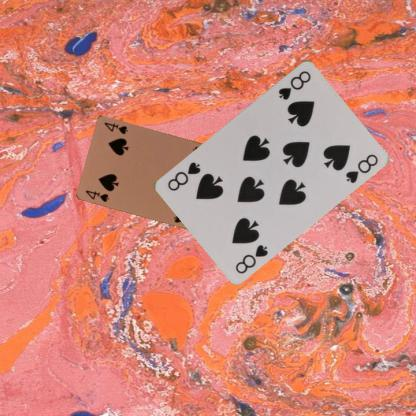4s: (84, 188, 110, 203)
8s: (232, 242, 270, 275), (276, 68, 312, 101)
